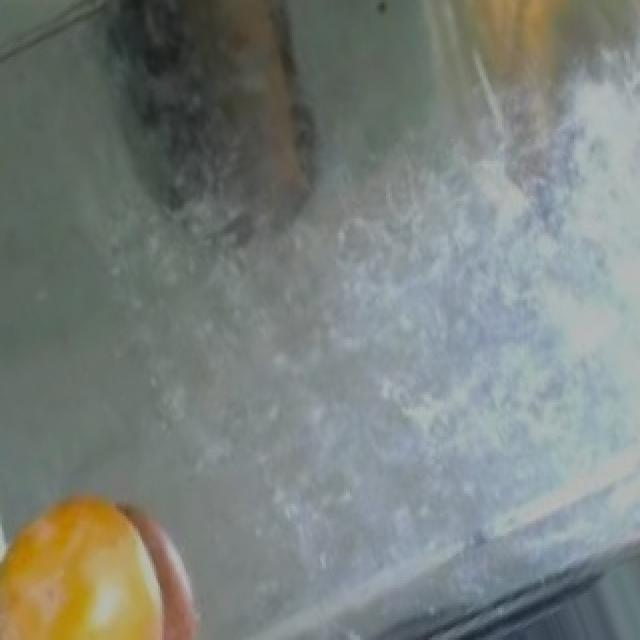Fruit: (0, 471, 180, 640)
